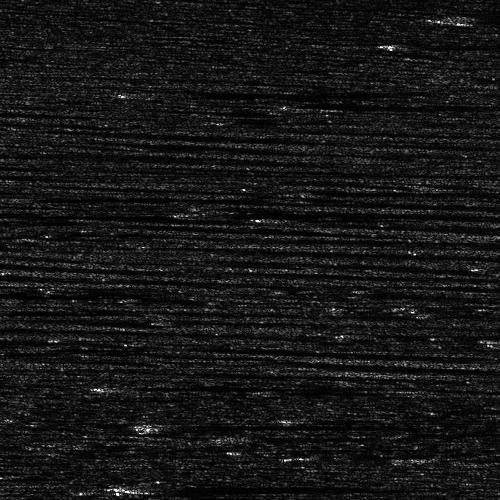object: (330, 37, 435, 50), (86, 481, 191, 492), (103, 381, 218, 390), (178, 432, 283, 441), (255, 100, 348, 109), (422, 12, 495, 23), (103, 90, 208, 97), (172, 209, 235, 216), (422, 73, 500, 78), (102, 422, 165, 427)
shadow: (139, 481, 398, 492), (161, 381, 420, 390), (204, 209, 471, 216), (302, 100, 500, 109), (383, 37, 500, 50), (156, 90, 358, 97), (134, 422, 391, 427), (230, 432, 362, 441), (0, 51, 61, 60), (458, 12, 500, 23), (463, 73, 500, 78)
